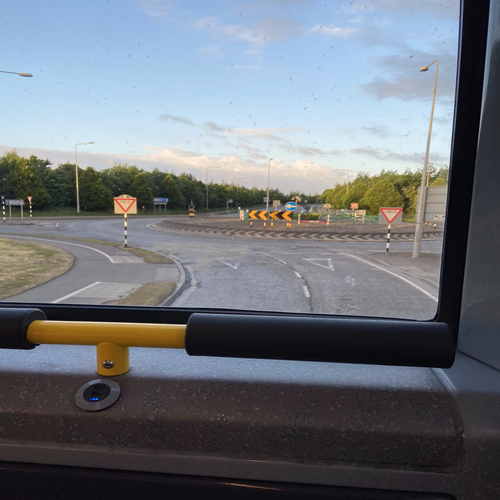Yield: (111, 196, 136, 212), (381, 206, 402, 225)
